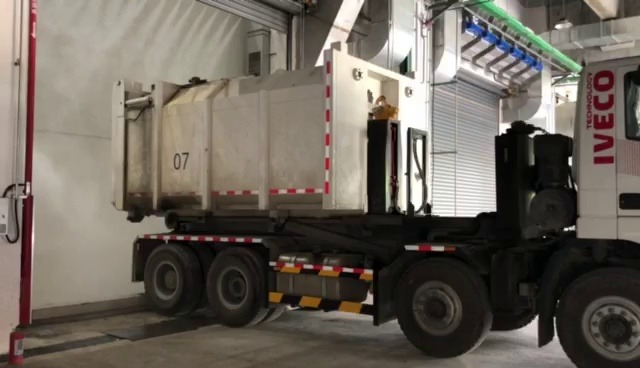truck: (102, 37, 640, 368)
